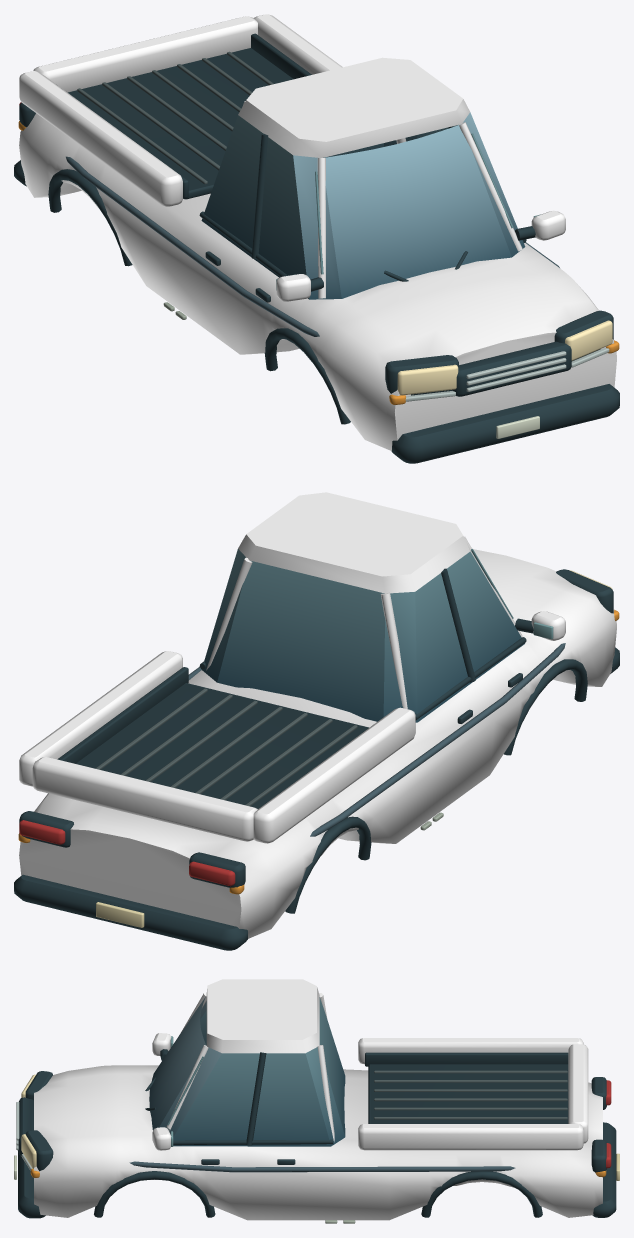
File: range.glb
3 views of the same model, one above another, from view 1: azimuth 30°, elevation 25°; view 2: azimuth 150°, elevation 25°; view 3: azimuth 270°, elevation 25° (orthographic). The views are drawn at different scales.
Parts seen in each view (by area): view 1: Chassis, Headlamps; view 2: Chassis, BrakeLamps; view 3: Chassis, Headlamps.
Boxes of the visible parts, bbox=[...] form: Chassis: bbox=[14, 14, 619, 463]; Headlamps: bbox=[397, 320, 612, 395]; Chassis: bbox=[14, 492, 619, 950]; BrakeLamps: bbox=[19, 820, 235, 886]; Chassis: bbox=[14, 979, 619, 1223]; Headlamps: bbox=[21, 1074, 36, 1168].
Bounding box in the file's own units: 1.94 × 1.47 × 4.72.
